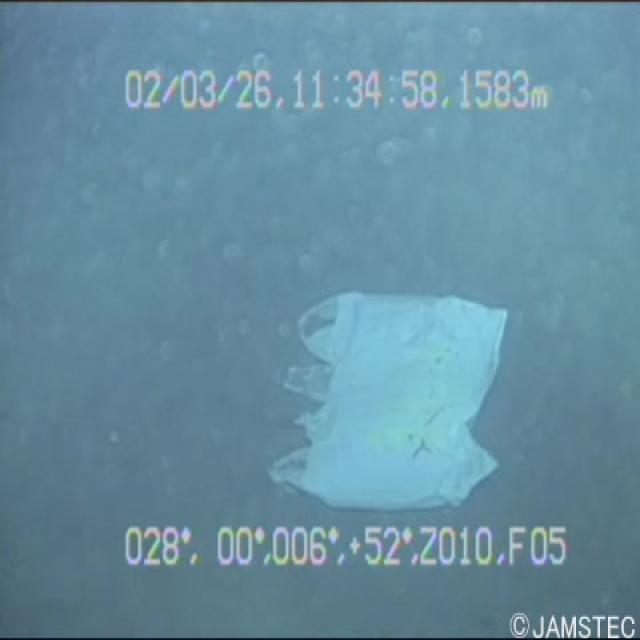plastic: (252, 259, 516, 521)
